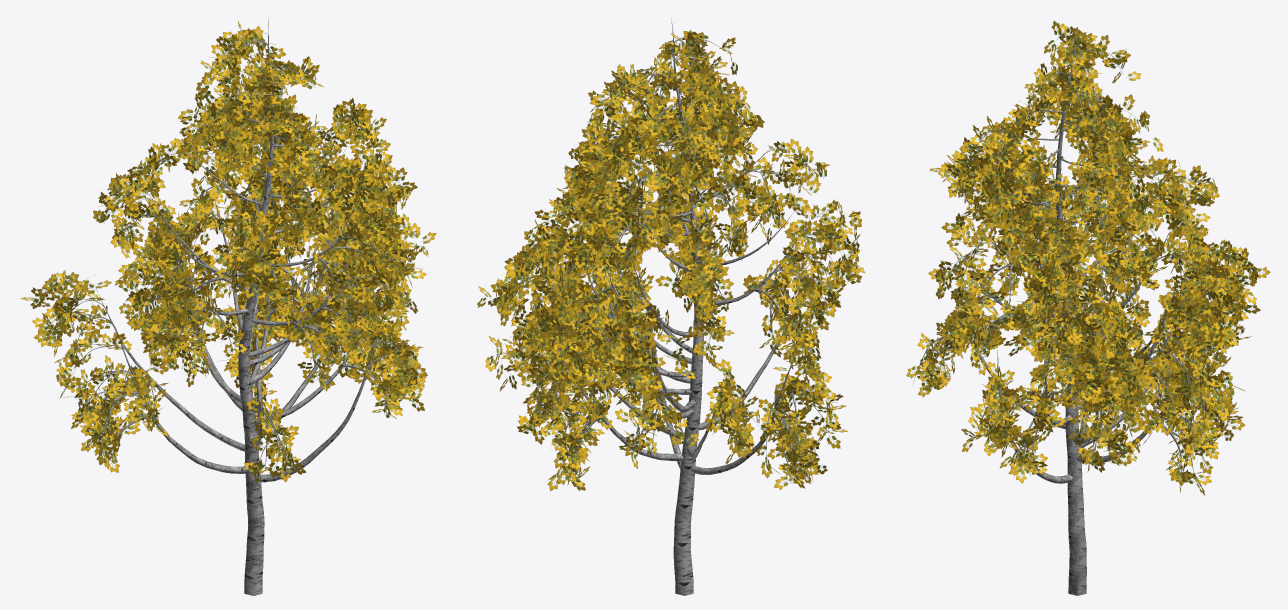
File: quaking_aspen_5.glb
3 renders of one model, left to right at view 1: azimuth 30°, elevation 25°; view 2: azimuth 150°, elevation 25°; view 3: azimuth 270°, elevation 25°, orthographic.
Parts seen in each view (by area): view 1: foliage.004, structure.004; view 2: foliage.004, structure.004; view 3: foliage.004, structure.004.
Boxes of the visible parts, x1,y1,x2,y2 form: foliage.004: [20, 21, 436, 482]; structure.004: [50, 18, 411, 595]; foliage.004: [477, 30, 864, 490]; structure.004: [507, 15, 848, 595]; foliage.004: [906, 20, 1270, 495]; structure.004: [919, 31, 1244, 595].
Size of the model in its own units: 19.74 by 29.76 by 17.6.
2 materials, 2 textured.
